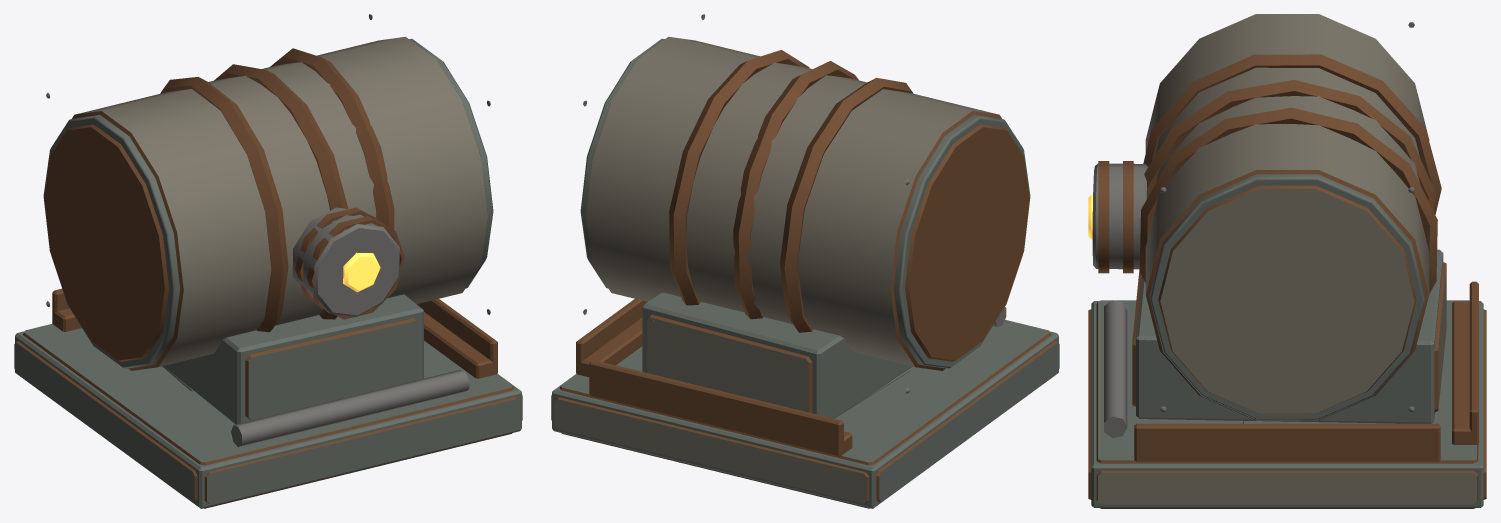
The model's file is R4X_DrivePower.fbx.
The picture shows the model from 3 angles, left to right: view 1: azimuth 30°, elevation 25°; view 2: azimuth 150°, elevation 25°; view 3: azimuth 270°, elevation 25°; orthographic projection. The views are drawn at different scales.
Visible parts, largest first — view 1: R4X_DrivePower_Body; view 2: R4X_DrivePower_Body; view 3: R4X_DrivePower_Body.
Part boxes in pixels (box(x1,y1,x2,y2)): R4X_DrivePower_Body: box(14, 14, 522, 508); R4X_DrivePower_Body: box(551, 14, 1059, 508); R4X_DrivePower_Body: box(1088, 14, 1486, 508).
Size of the model in its own units: 0.52 by 0.504 by 0.52.
